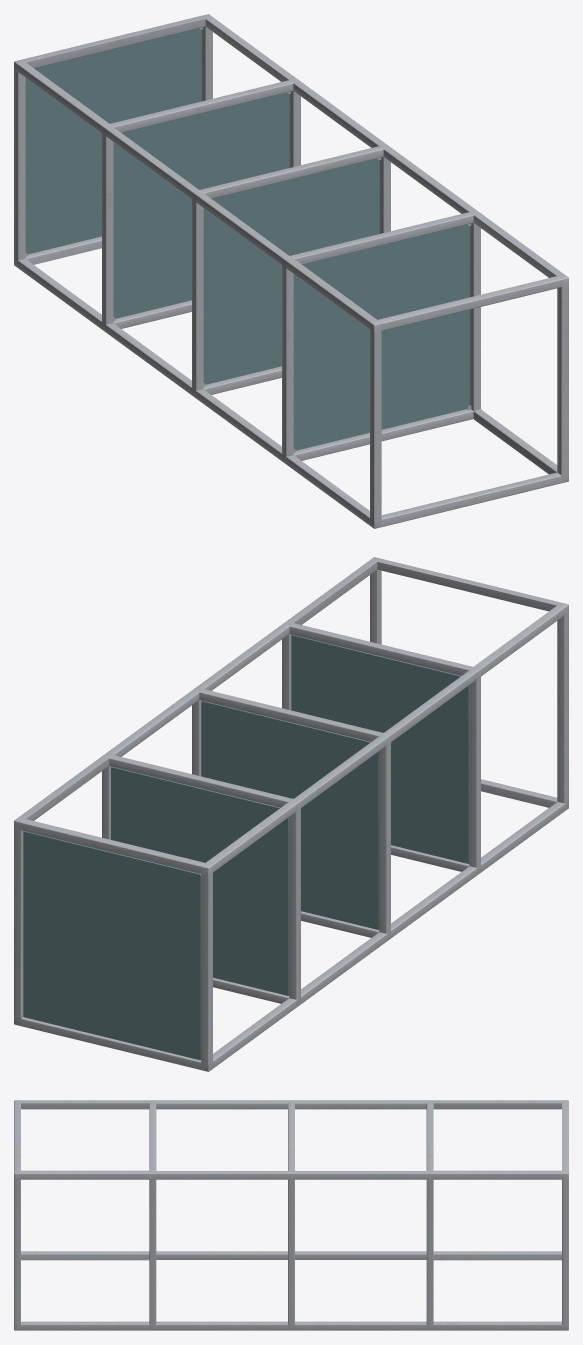
File: Cabinet2.fbx
3 views of the same model, one above another, from view 1: azimuth 30°, elevation 25°; view 2: azimuth 150°, elevation 25°; view 3: azimuth 270°, elevation 25° (orthographic). The views are drawn at different scales.
Parts seen in each view (by area): view 1: Object_2, Object_3; view 2: Object_2, Object_3; view 3: Object_3.
Boxes of the visible parts, <box> form: Object_2: <box>25,28,469,450</box>; Object_3: <box>14,14,568,528</box>; Object_2: <box>23,635,469,1059</box>; Object_3: <box>14,557,568,1071</box>; Object_3: <box>14,1100,568,1330</box>.
Size of the model in its own units: 50 by 50 by 160.
1 material, 1 textured.
